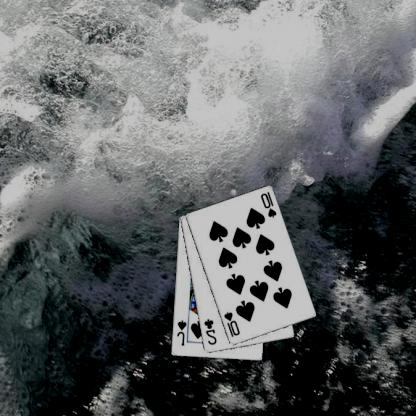10S: (222, 309, 242, 339), (260, 190, 280, 219)
2C: (203, 317, 219, 346)
JS: (176, 318, 189, 347)
